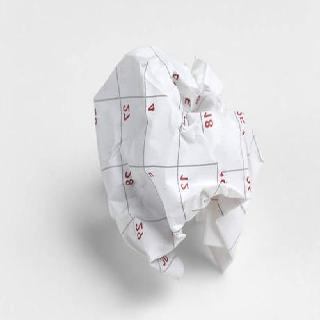8/可回收垃圾/纸: (92, 45, 263, 277)
